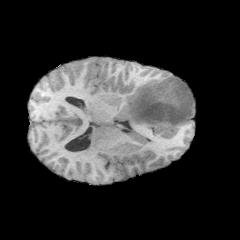glioma: (125, 80, 191, 128)
